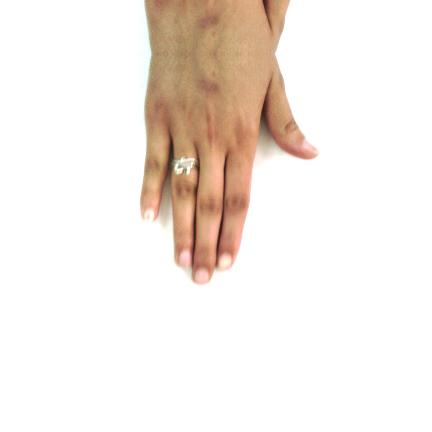Nail: (302, 139, 320, 155), (178, 249, 192, 268), (194, 268, 210, 284), (218, 252, 232, 270), (142, 208, 155, 223)
